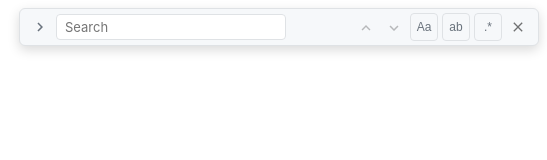
SearchReplacePanel › T-SR-14: invalid regex input shows no results instead of crashing
The image size is (547, 160).
Note: Enable regex mode, then type an unclosed group
Click the button ".*" at (488, 27), box x1=474 y1=13 x2=502 y2=41
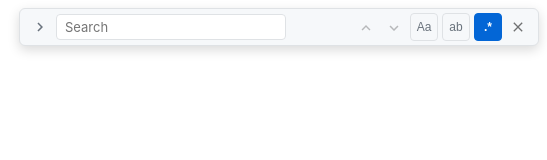
Type "(" into the field with placeholder "Search" at (171, 27), box x1=56 y1=14 x2=286 y2=40
Wait 200 ms
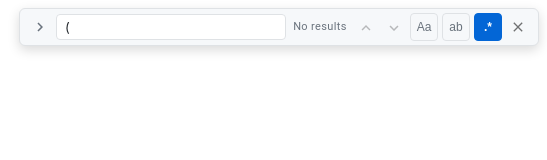
Now the text "No results" is shown, box x1=290 y1=18 x2=350 y2=36
